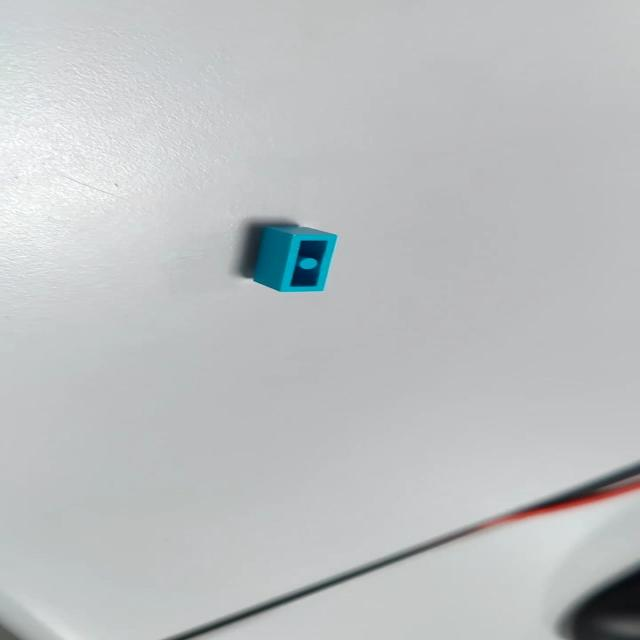C2x1x1: (250, 225, 338, 292)
